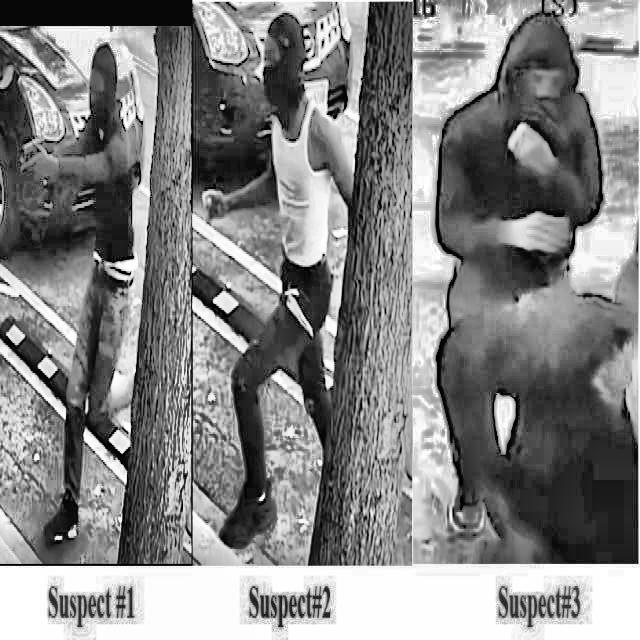robbery: (430, 6, 638, 564), (6, 42, 152, 565)
